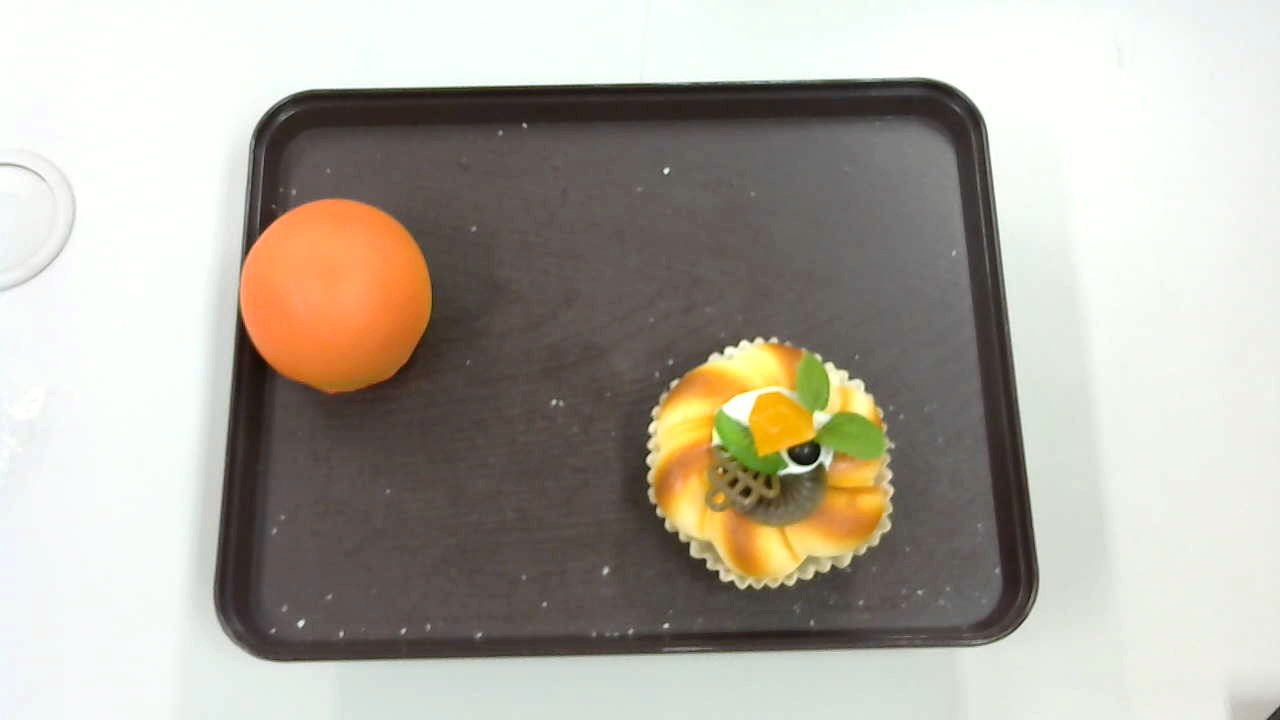bun: (239, 199, 431, 394)
fruit tart: (646, 336, 895, 592)
